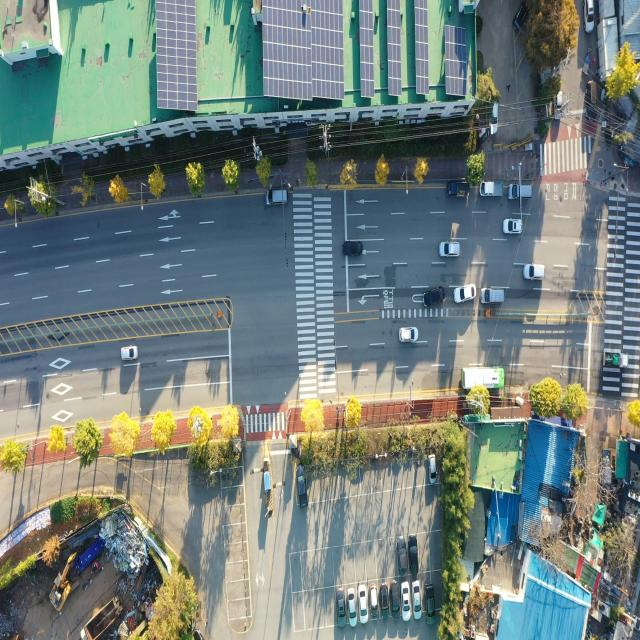car: (508, 182, 534, 201), (422, 288, 444, 307), (481, 287, 505, 304), (297, 464, 307, 504), (347, 588, 357, 628), (397, 536, 407, 575), (410, 536, 420, 574), (267, 188, 289, 205), (454, 285, 475, 302), (523, 265, 544, 282), (368, 585, 378, 619), (513, 2, 524, 31), (491, 101, 500, 136), (381, 583, 390, 618), (426, 584, 434, 622), (414, 581, 422, 619), (441, 242, 461, 257), (342, 241, 362, 256), (504, 218, 522, 234), (401, 326, 419, 342), (358, 586, 366, 622), (401, 584, 409, 619), (338, 590, 346, 624), (587, 0, 595, 33), (391, 582, 398, 619), (556, 94, 564, 124), (122, 348, 140, 360), (430, 452, 437, 482)
large_bus: (462, 364, 506, 390)
medium_truck: (77, 591, 124, 640)
small_truck: (584, 76, 598, 126), (479, 177, 506, 201), (603, 348, 627, 372), (447, 181, 470, 199)
